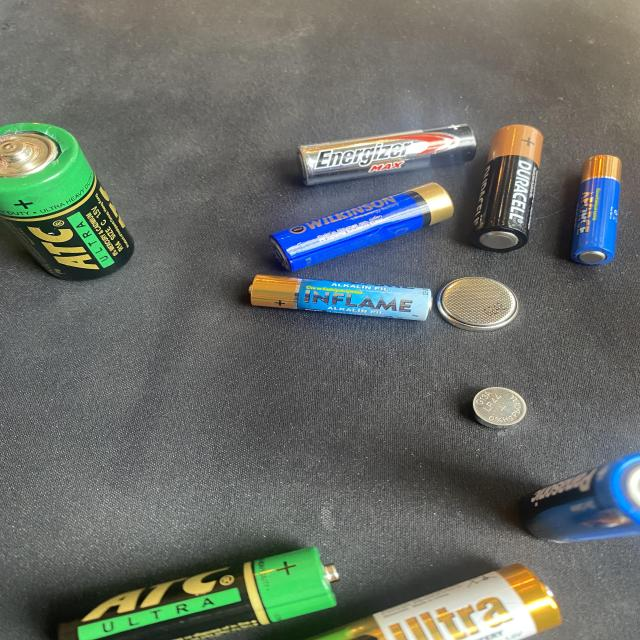AA: (268, 181, 454, 272), (296, 123, 477, 186), (469, 123, 543, 253)
AAA: (247, 274, 432, 322)
COIN: (434, 271, 536, 346), (459, 374, 538, 444)
